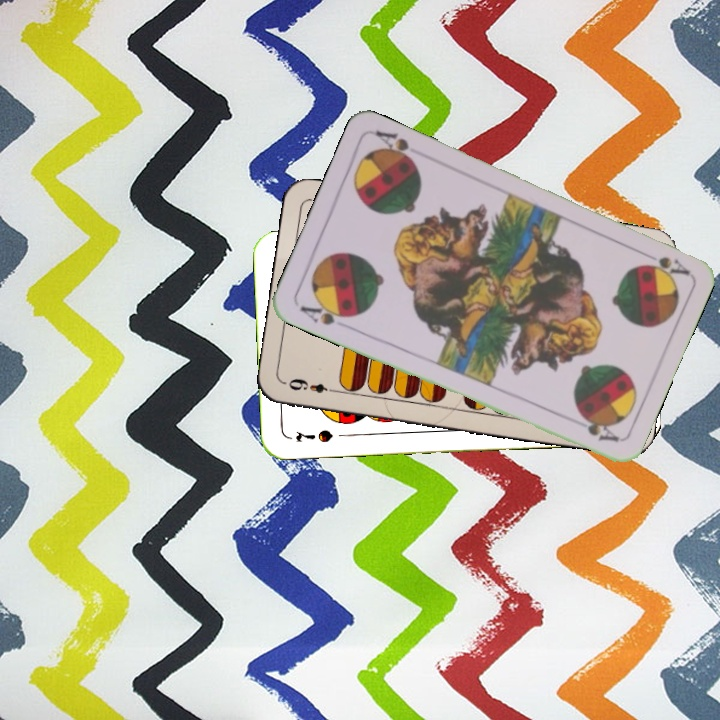E9: (282, 374, 341, 396)
S7: (292, 425, 336, 445)
SA: (296, 297, 355, 328), (635, 246, 691, 278)
